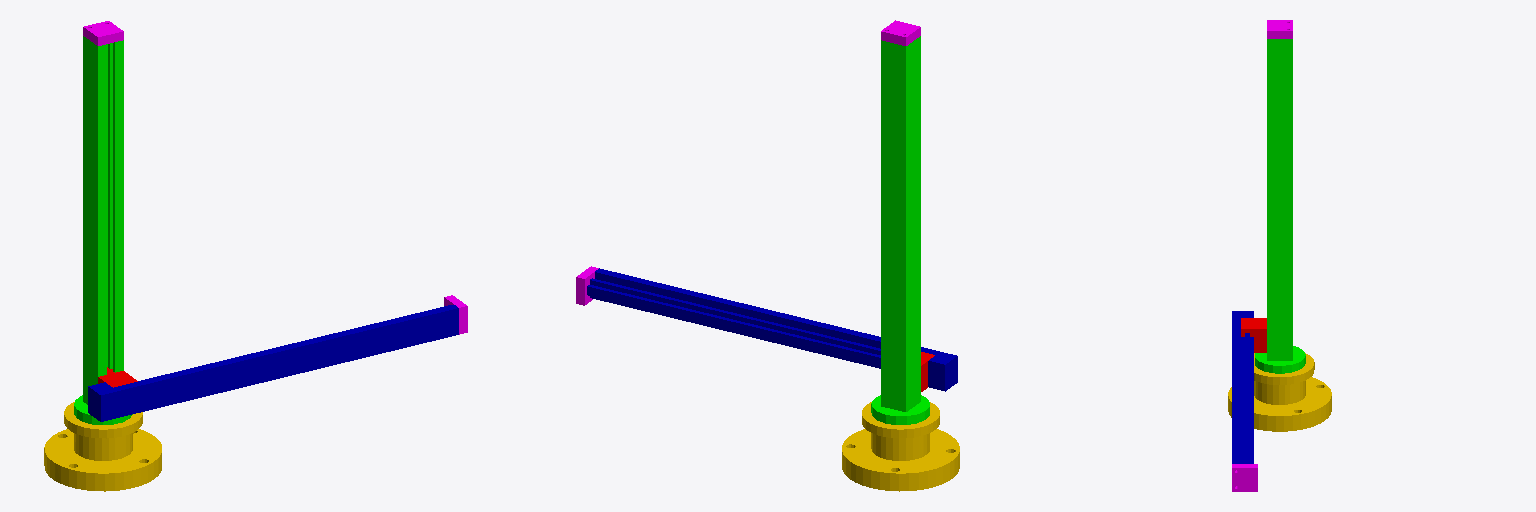
The robot description file, URDF, robot "Cylindrical_Robot":
<?xml version="1.0" encoding="utf-8"?>
<!-- This URDF was automatically created by SolidWorks to URDF Exporter! Originally created by [author] ([email redacted]) 
     Commit Version: 1.6.0-1-g15f4949  Build Version: 1.6.7594.29634
     For more information, please see http://wiki.ros.org/sw_urdf_exporter -->
<robot
  name="Cylindrical_Robot">
  <link
    name="Base">
    <inertial>
      <origin
        xyz="1.51788304147971E-15 3.07046055247895E-16 0.0971649484536089"
        rpy="0 0 0" />
      <mass
        value="38.0918109247757" />
      <inertia
        ixx="0.998007283384442"
        ixy="-7.07767178198537E-16"
        ixz="2.96384243302059E-15"
        iyy="0.998007283384443"
        iyz="8.11507210601025E-16"
        izz="1.43441270864657" />
    </inertial>
    <visual>
      <origin
        xyz="0 0 0"
        rpy="0 0 0" />
      <geometry>
        <mesh
          filename="package://Cylindrical_Robot/meshes/Base.STL" />
      </geometry>
      <material
        name="">
        <color
          rgba="0.96078431372549 0.792156862745098 0 1" />
      </material>
    </visual>
    <collision>
      <origin
        xyz="0 0 0"
        rpy="0 0 0" />
      <geometry>
        <mesh
          filename="package://Cylindrical_Robot/meshes/Base.STL" />
      </geometry>
    </collision>
  </link>
  <link
    name="Link_1">
    <inertial>
      <origin
        xyz="-1.16746889933239E-15 0.00815665838358236 1.12791470725033"
        rpy="0 0 0" />
      <mass
        value="45.9361938571609" />
      <inertia
        ixx="22.6970338352878"
        ixy="4.44089209850063E-16"
        ixz="-3.74938779646488E-17"
        iyy="22.7125900196918"
        iyz="-0.101633918196419"
        izz="0.21814087740139" />
    </inertial>
    <visual>
      <origin
        xyz="0 0 0"
        rpy="0 0 0" />
      <geometry>
        <mesh
          filename="package://Cylindrical_Robot/meshes/Link_1.STL" />
      </geometry>
      <material
        name="">
        <color
          rgba="0 1 0 1" />
      </material>
    </visual>
    <collision>
      <origin
        xyz="0 0 0"
        rpy="0 0 0" />
      <geometry>
        <mesh
          filename="package://Cylindrical_Robot/meshes/Link_1.STL" />
      </geometry>
    </collision>
  </link>
  <joint
    name="J1"
    type="continuous">
    <origin
      xyz="0 0 0"
      rpy="0 0 0" />
    <parent
      link="Base" />
    <child
      link="Link_1" />
    <axis
      xyz="0 0 -1" />
  </joint>
  <link
    name="Cap_1">
    <inertial>
      <origin
        xyz="2.25514051876985E-17 -0.00143637454577911 2.425"
        rpy="0 0 0" />
      <mass
        value="1.0935840734641" />
      <inertia
        ixx="0.00225562354894147"
        ixy="-4.87890977618477E-19"
        ixz="-5.60363852344969E-19"
        iyy="0.00225787980080188"
        iyz="-8.55000534598758E-19"
        izz="0.00405784331913331" />
    </inertial>
    <visual>
      <origin
        xyz="0 0 0"
        rpy="0 0 0" />
      <geometry>
        <mesh
          filename="package://Cylindrical_Robot/meshes/Cap_1.STL" />
      </geometry>
      <material
        name="">
        <color
          rgba="1 0 1 1" />
      </material>
    </visual>
    <collision>
      <origin
        xyz="0 0 0"
        rpy="0 0 0" />
      <geometry>
        <mesh
          filename="package://Cylindrical_Robot/meshes/Cap_1.STL" />
      </geometry>
    </collision>
  </link>
  <joint
    name="F1"
    type="fixed">
    <origin
      xyz="0 0 0"
      rpy="0 0 0" />
    <parent
      link="Link_1" />
    <child
      link="Cap_1" />
    <axis
      xyz="0 0 0" />
  </joint>
  <link
    name="Link_2">
    <inertial>
      <origin
        xyz="-1.13797860024079E-15 -0.1166666397679 5.13766251764025E-11"
        rpy="0 0 0" />
      <mass
        value="3.37499727063957" />
      <inertia
        ixx="0.0183593719803702"
        ixy="-6.50521303491303E-19"
        ixz="-6.59824731221494E-19"
        iyy="0.0126562448824345"
        iyz="5.7674549433612E-12"
        izz="0.0163281168628341" />
    </inertial>
    <visual>
      <origin
        xyz="0 0 0"
        rpy="0 0 0" />
      <geometry>
        <mesh
          filename="package://Cylindrical_Robot/meshes/Link_2.STL" />
      </geometry>
      <material
        name="">
        <color
          rgba="1 0 0 1" />
      </material>
    </visual>
    <collision>
      <origin
        xyz="0 0 0"
        rpy="0 0 0" />
      <geometry>
        <mesh
          filename="package://Cylindrical_Robot/meshes/Link_2.STL" />
      </geometry>
    </collision>
  </link>
  <joint
    name="J2"
    type="prismatic">
    <origin
      xyz="0 0 0.475"
      rpy="0 0 0" />
    <parent
      link="Link_1" />
    <child
      link="Link_2" />
    <axis
      xyz="0 0 1" />
    <limit
      lower="0"
      upper="0"
      effort="0"
      velocity="0" />
  </joint>
  <link
    name="Link_3">
    <inertial>
      <origin
        xyz="0.85149437697372 -0.224121856849528 1.60982338570648E-15"
        rpy="0 0 0" />
      <mass
        value="26.8687168146928" />
      <inertia
        ixx="0.0697509981348235"
        ixy="0.0227187464895352"
        ixz="-1.15010053899446E-14"
        iyy="10.2875221281938"
        iyz="-8.7730852225903E-18"
        izz="10.2836069397478" />
    </inertial>
    <visual>
      <origin
        xyz="0 0 0"
        rpy="0 0 0" />
      <geometry>
        <mesh
          filename="package://Cylindrical_Robot/meshes/Link_3.STL" />
      </geometry>
      <material
        name="">
        <color
          rgba="0 0 0.752941176470588 1" />
      </material>
    </visual>
    <collision>
      <origin
        xyz="0 0 0"
        rpy="0 0 0" />
      <geometry>
        <mesh
          filename="package://Cylindrical_Robot/meshes/Link_3.STL" />
      </geometry>
    </collision>
  </link>
  <joint
    name="J3"
    type="prismatic">
    <origin
      xyz="0 0 0"
      rpy="0 0 0" />
    <parent
      link="Link_2" />
    <child
      link="Link_3" />
    <axis
      xyz="1 0 0" />
    <limit
      lower="0"
      upper="0"
      effort="0"
      velocity="0" />
  </joint>
  <link
    name="End_Effector">
    <inertial>
      <origin
        xyz="-0.0249999999999995 -0.198563625454215 4.49640324973188E-15"
        rpy="0 0 0" />
      <mass
        value="1.0935840734641" />
      <inertia
        ixx="0.0040578433191333"
        ixy="8.67361737988404E-19"
        ixz="-1.64025199478762E-18"
        iyy="0.00225787980080188"
        iyz="1.10281598429243E-18"
        izz="0.00225562354894146" />
    </inertial>
    <visual>
      <origin
        xyz="0 0 0"
        rpy="0 0 0" />
      <geometry>
        <mesh
          filename="package://Cylindrical_Robot/meshes/End_Effector.STL" />
      </geometry>
      <material
        name="">
        <color
          rgba="1 0 1 1" />
      </material>
    </visual>
    <collision>
      <origin
        xyz="0 0 0"
        rpy="0 0 0" />
      <geometry>
        <mesh
          filename="package://Cylindrical_Robot/meshes/End_Effector.STL" />
      </geometry>
    </collision>
  </link>
  <joint
    name="F2"
    type="fixed">
    <origin
      xyz="1.975 0 0"
      rpy="0 0 0" />
    <parent
      link="Link_3" />
    <child
      link="End_Effector" />
    <axis
      xyz="0 0 0" />
  </joint>
</robot>

--- Facts derived from the render (not from the file) ---
Views: 3 orthographic renders of the robot side by side, from view 1: azimuth 30°, elevation 25°; view 2: azimuth 150°, elevation 25°; view 3: azimuth 270°, elevation 25°.
Model Cylindrical_Robot with 6 links and 5 joints (1 continuous, 2 prismatic, 2 fixed), rooted at Base, posed every joint at zero.
Links seen in each view (by area): view 1: Link_1, Link_3, Base, Cap_1; view 2: Link_1, Link_3, Base, Cap_1; view 3: Link_1, Base, Link_3, End_Effector, Link_2.
Boxes of the visible links, box(x1,y1,x2,y2) form: Link_1: box(74, 36, 132, 424); Link_3: box(88, 305, 458, 421); Base: box(44, 402, 161, 491); Cap_1: box(83, 21, 123, 45); Link_1: box(871, 36, 929, 424); Link_3: box(587, 268, 957, 391); Base: box(842, 402, 959, 491); Cap_1: box(881, 20, 920, 45); Link_1: box(1255, 39, 1305, 373); Base: box(1228, 353, 1331, 431); Link_3: box(1232, 311, 1253, 463); End_Effector: box(1232, 464, 1257, 491); Link_2: box(1241, 318, 1266, 352).
Bounding box of the posed robot: 2.27 × 0.6 × 2.45 m (x, y, z).
Meshes: 6 distinct files referenced, 6 mesh visuals loaded (6 binary STL).